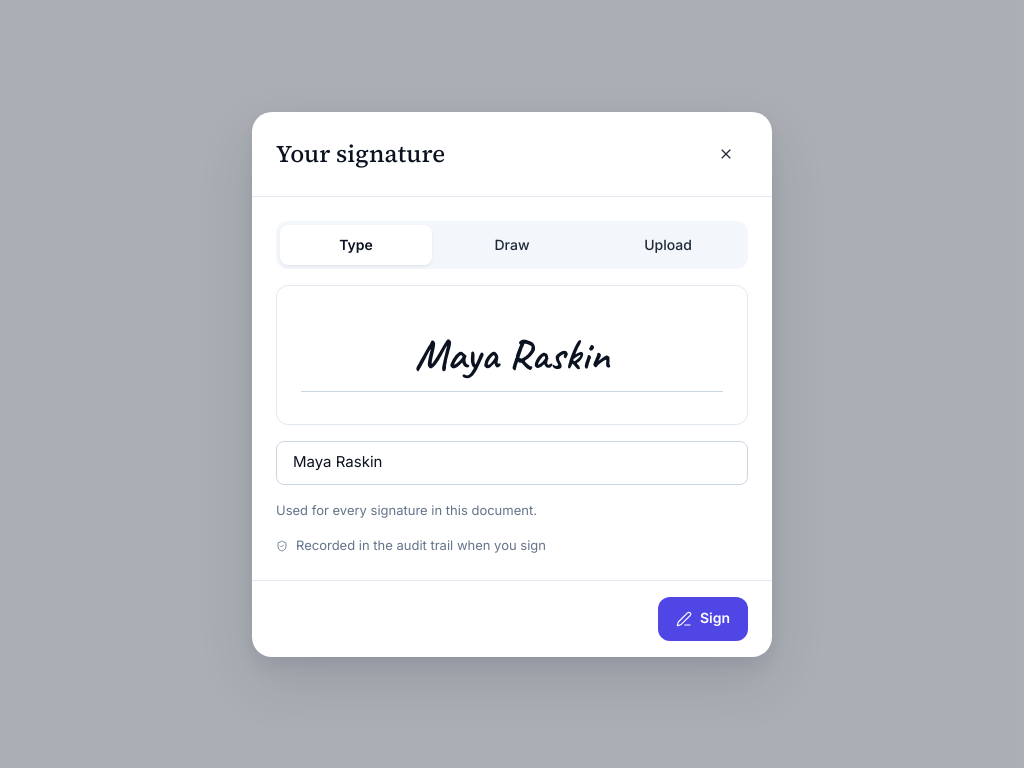
Test: SignatureCapture › Sign is disabled when typed name is empty
Clear the field named "Your full name": [512, 463] box [291,450,733,475]
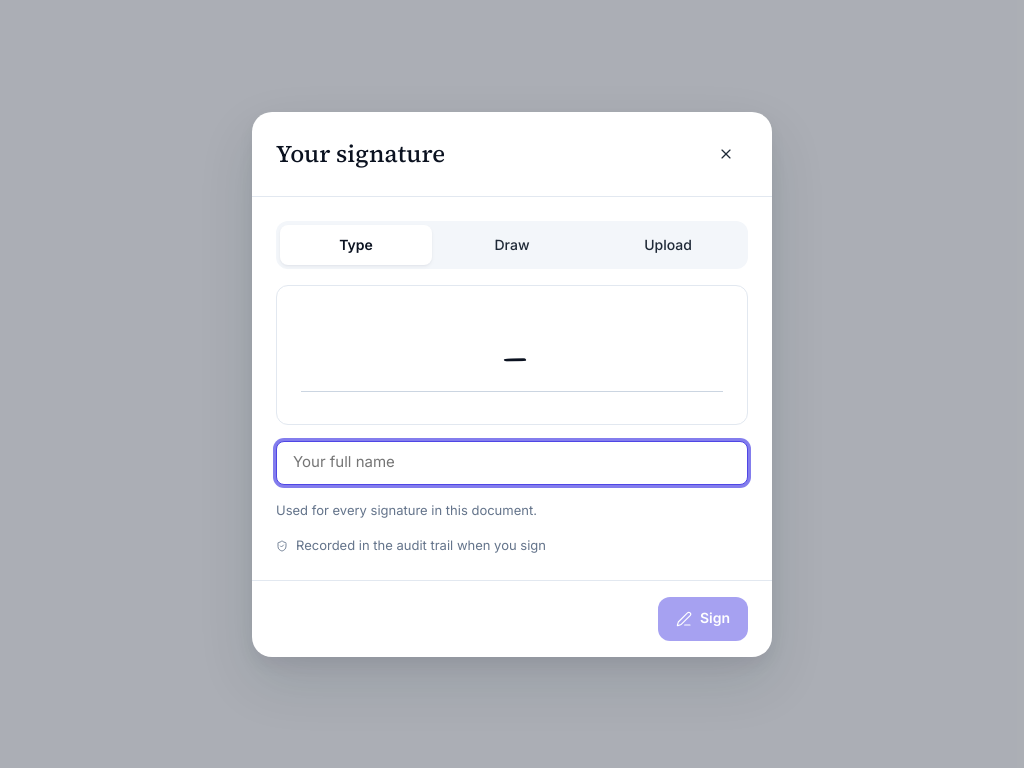
Expected: the button "Sign" is disabled, [658,596,748,640]
